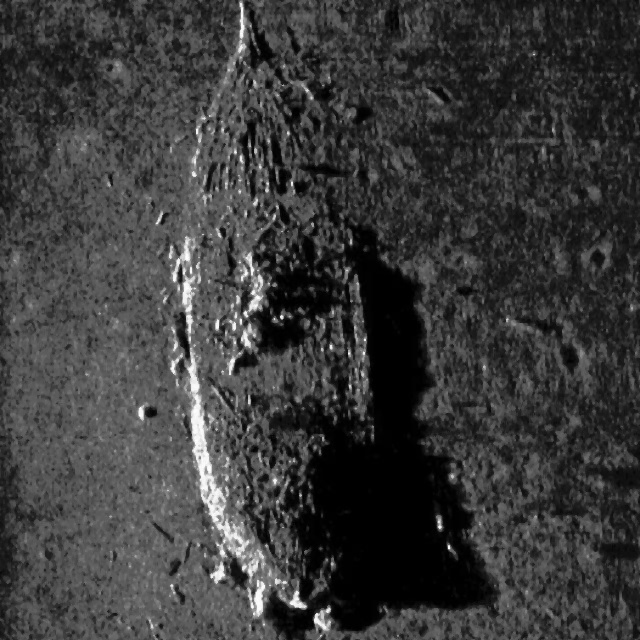Ship: (159, 0, 397, 640)
